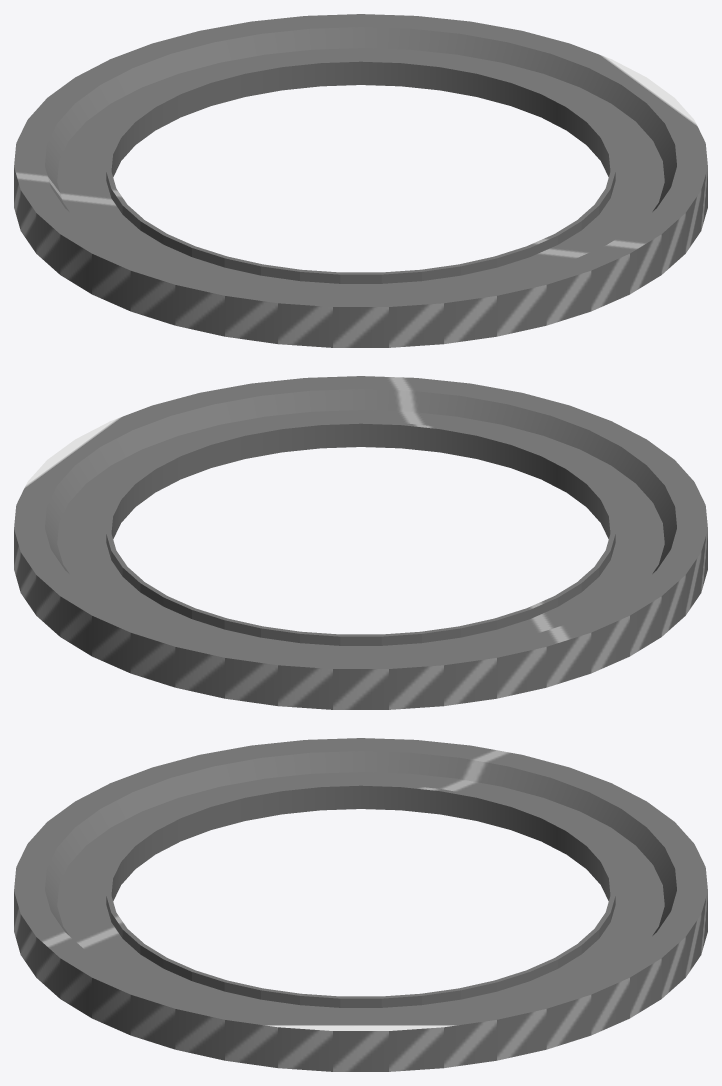
Rendered from Energy-Collector-Type-Omega.obj.
3 renders of one model, top to bottom at view 1: azimuth 30°, elevation 25°; view 2: azimuth 150°, elevation 25°; view 3: azimuth 270°, elevation 25°, orthographic.
Parts seen in each view (by area): view 1: Energy-Collector-Type-Omega; view 2: Energy-Collector-Type-Omega; view 3: Energy-Collector-Type-Omega.
Part boxes in pixels (x1=…): Energy-Collector-Type-Omega: x1=14, y1=14, x2=707, y2=347; Energy-Collector-Type-Omega: x1=14, y1=376, x2=707, y2=709; Energy-Collector-Type-Omega: x1=14, y1=738, x2=707, y2=1071.
Bounding box in the file's own units: 6.76 × 0.44 × 6.77.
